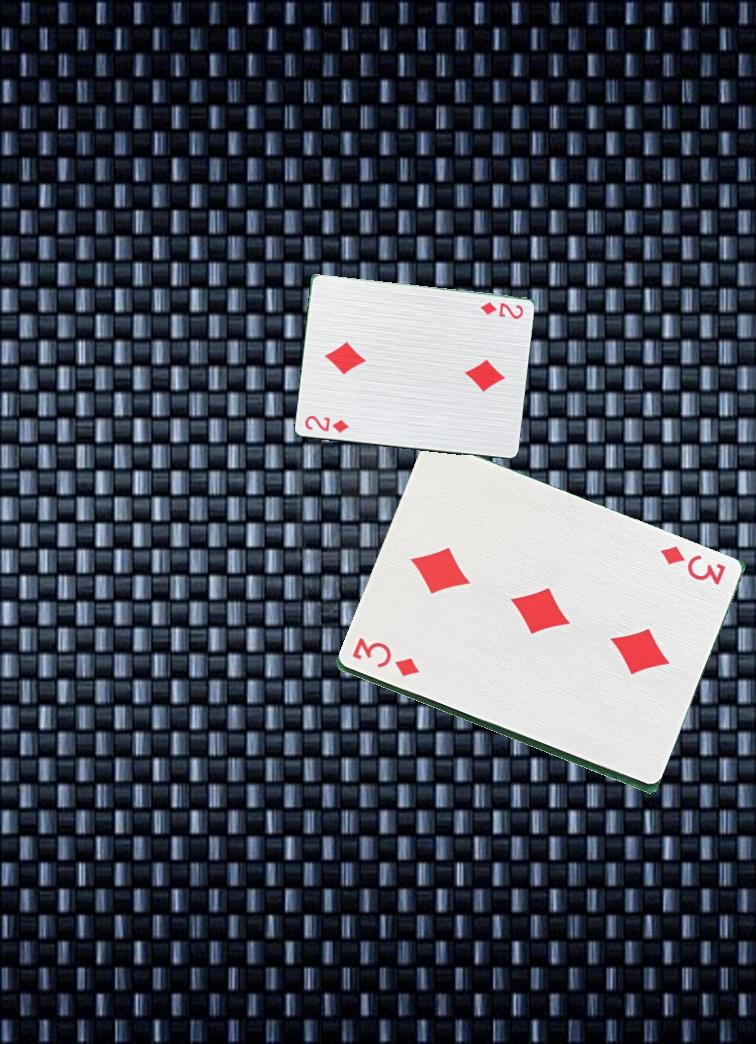2d: (477, 298, 531, 323), (302, 411, 352, 436)
3d: (655, 542, 728, 589), (348, 637, 422, 681)
